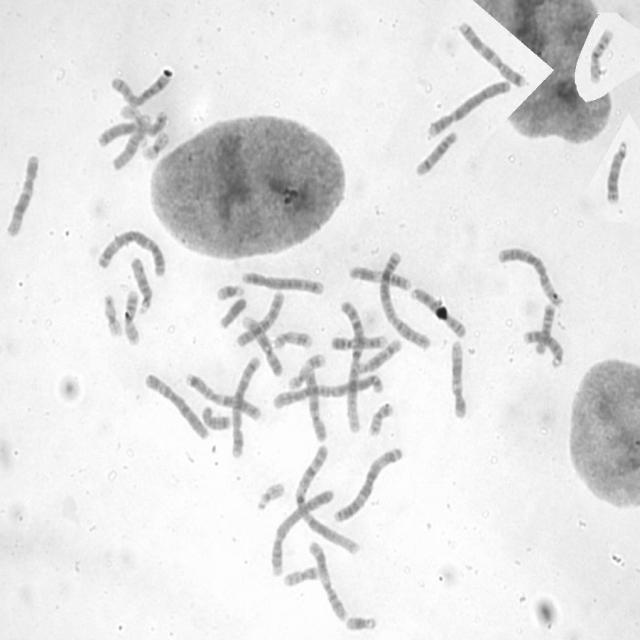A1: (292, 444, 362, 557), (340, 298, 366, 435)
A2: (378, 248, 432, 352), (269, 372, 385, 411)
A3: (330, 443, 405, 524), (95, 226, 168, 278)
B4: (269, 486, 335, 578), (423, 76, 513, 140)
B5: (227, 354, 262, 458), (238, 269, 324, 295)
C10: (234, 288, 285, 348), (302, 366, 329, 444)
C11: (307, 536, 349, 623), (347, 263, 414, 293)
C12: (4, 152, 40, 238), (448, 337, 468, 419)
C6: (142, 370, 210, 440), (495, 244, 565, 307)
C7: (456, 18, 527, 88), (184, 371, 263, 422)
C8: (407, 284, 467, 340), (108, 68, 173, 107)
C9: (239, 313, 284, 377), (327, 331, 388, 351)
D13: (604, 138, 630, 205), (522, 328, 565, 368)
D14: (414, 128, 458, 176), (357, 336, 403, 374)
D15: (110, 108, 150, 171), (128, 255, 153, 315)
E16: (584, 31, 618, 82), (122, 287, 142, 346)
E17: (287, 351, 326, 389), (271, 329, 312, 350)
E18: (532, 302, 556, 357), (200, 403, 232, 431)
F19: (102, 291, 122, 339), (140, 129, 170, 161)
F20: (366, 400, 395, 437), (280, 564, 320, 588)
G21: (343, 613, 377, 634), (214, 282, 246, 302)
G22: (255, 480, 286, 511), (117, 101, 151, 129)
X: (92, 110, 170, 150)
Y: (217, 294, 248, 330)
